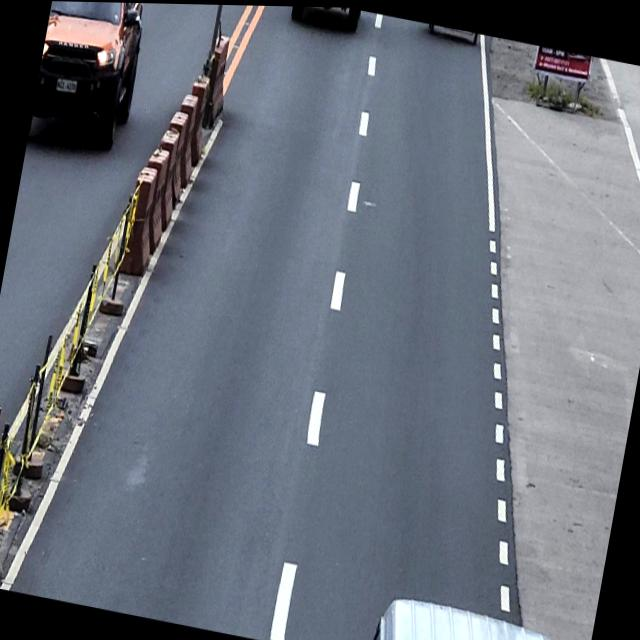Car: (28, 0, 159, 154)
License-Plate: (53, 75, 77, 95)
